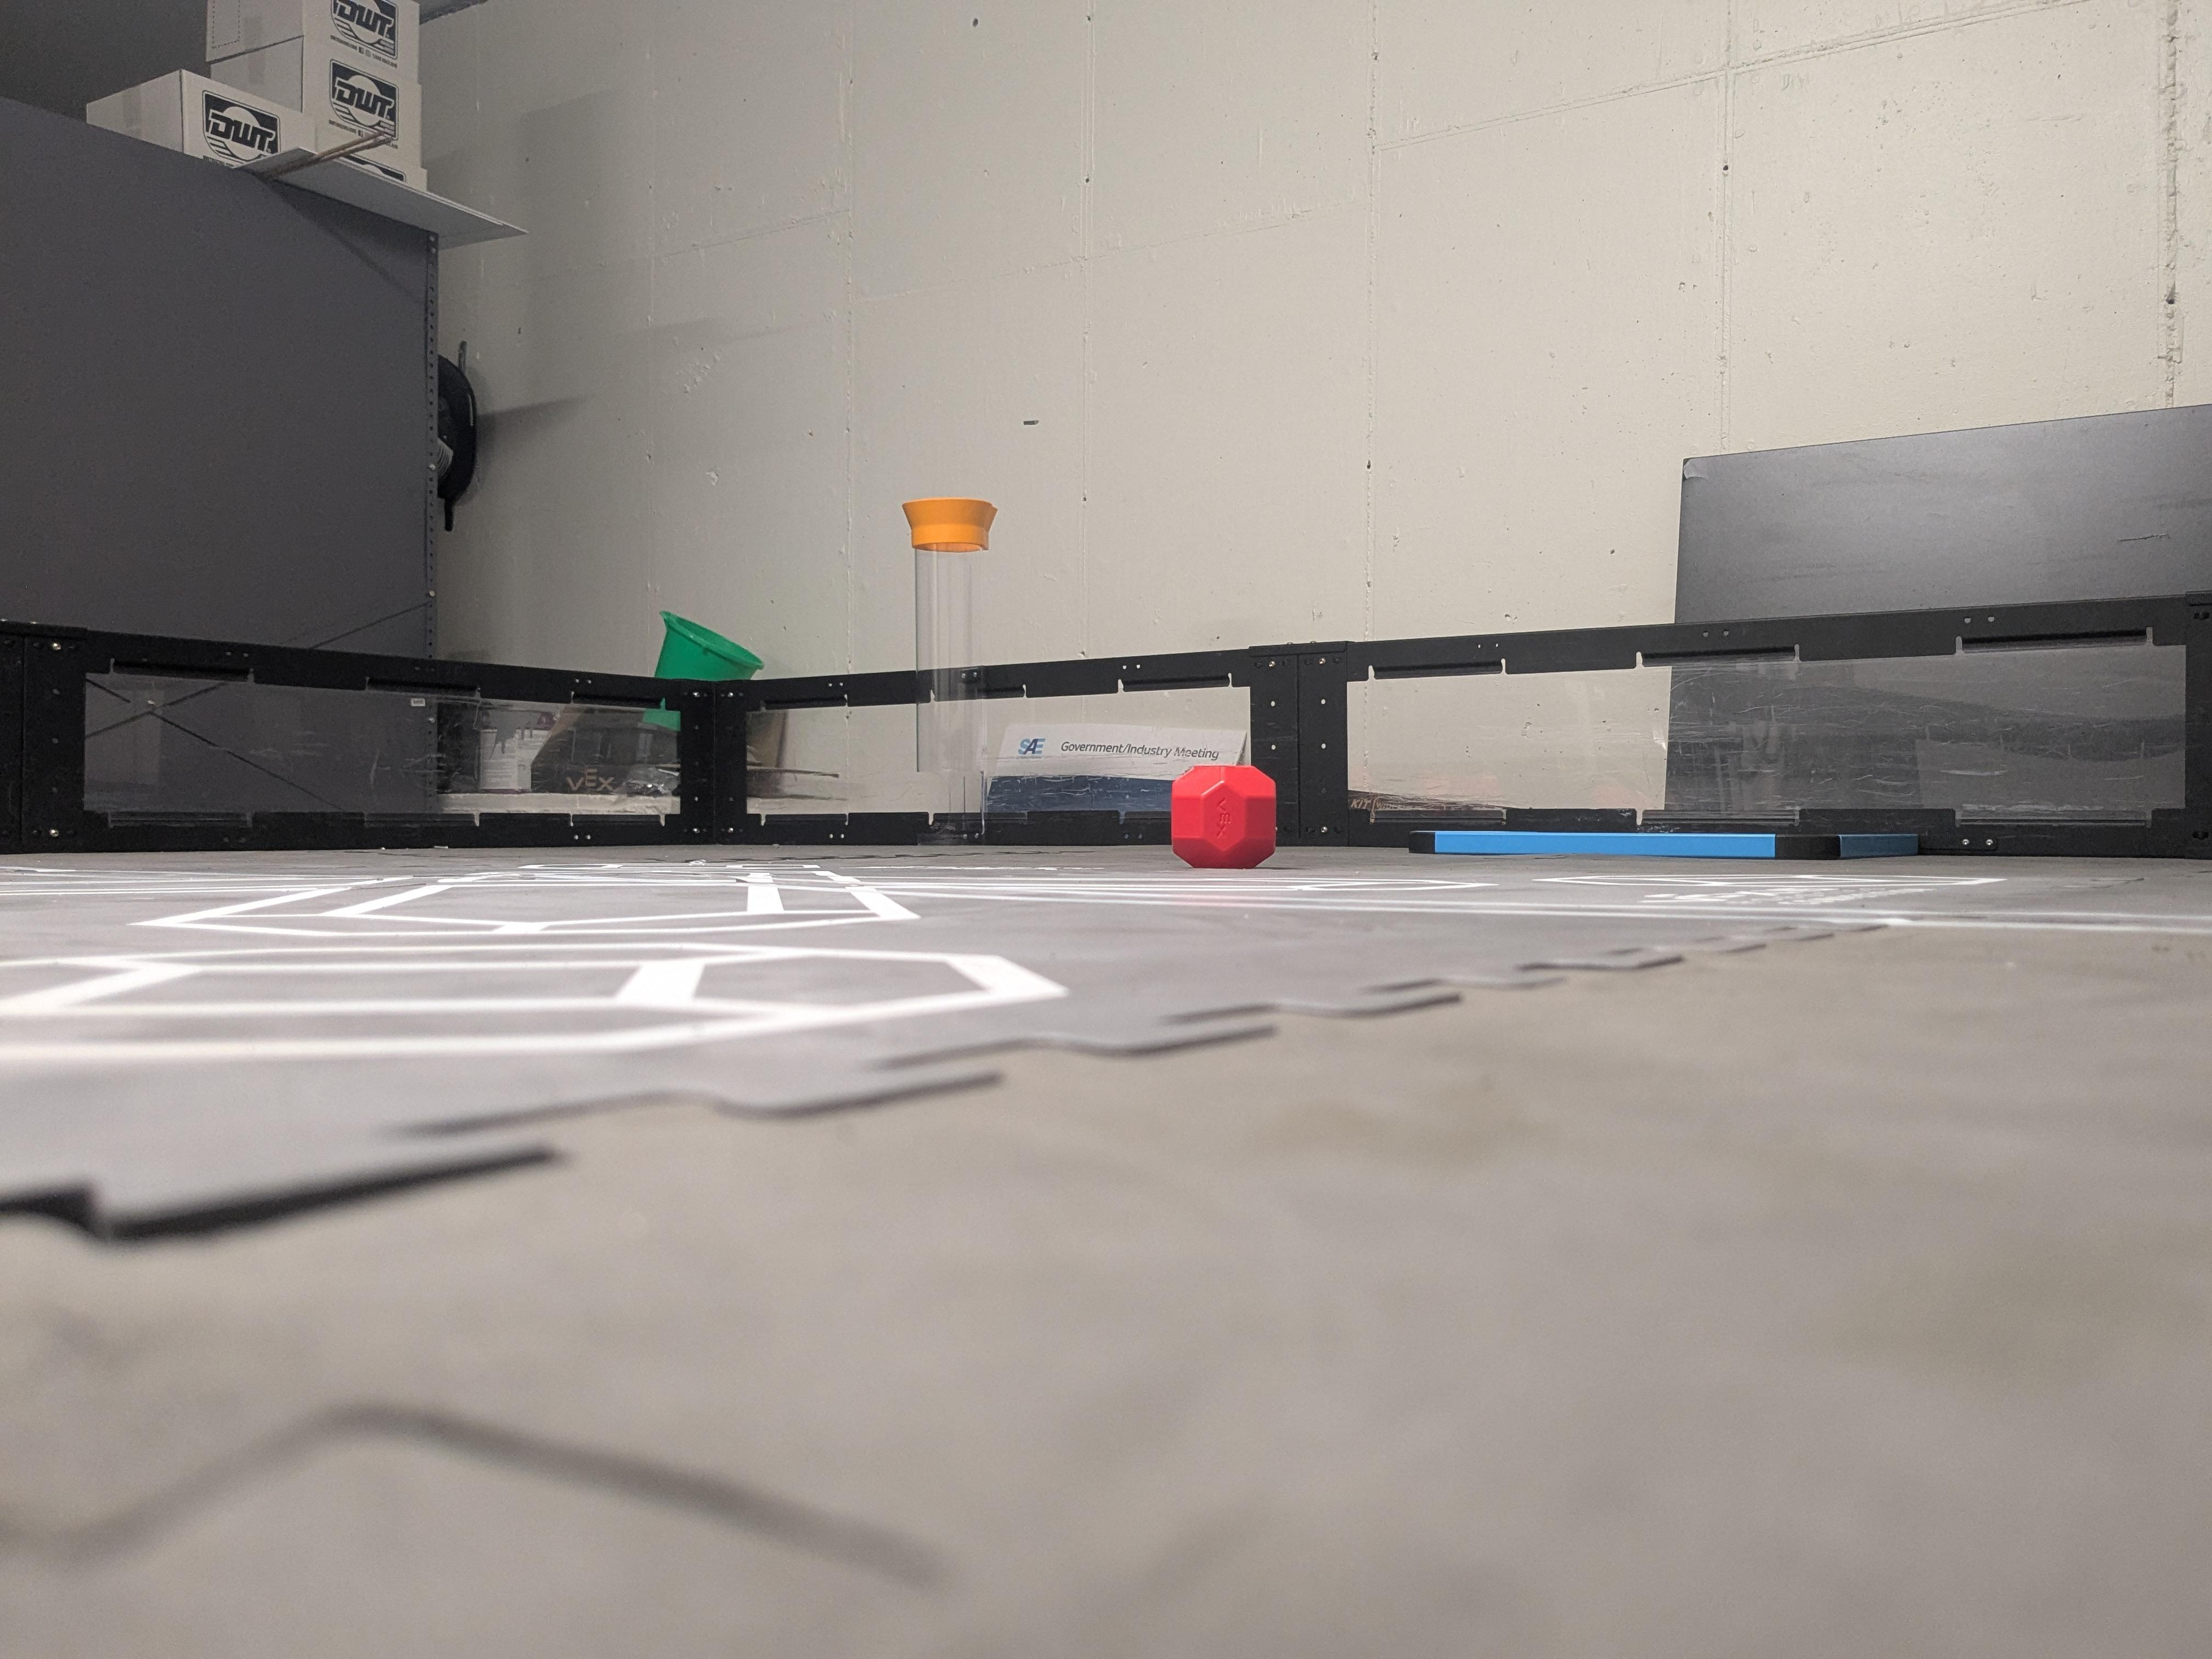Vex-Pieces-RED: (1170, 763, 1277, 868)
